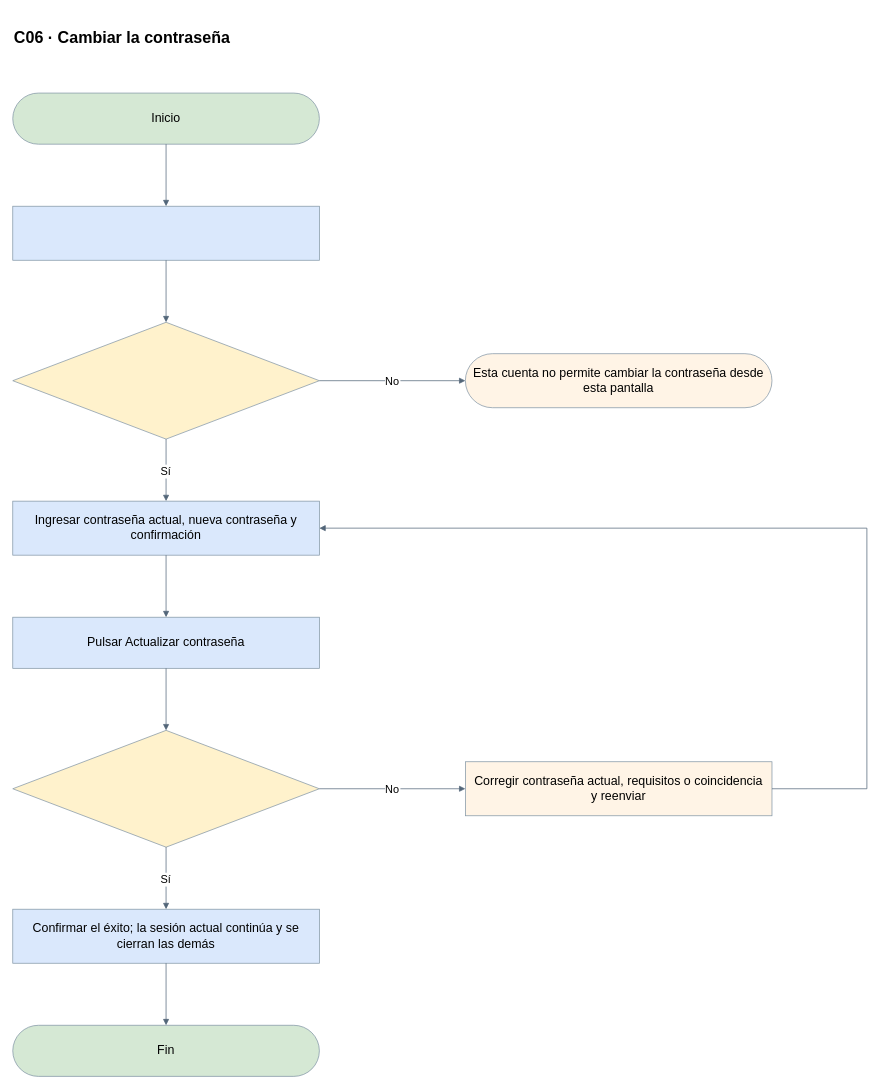
The diagram is 887 pixels wide and 1089 high, and some of its shapes have lost their labels. The shapes that lost their labels are listed below. From the top down, each one's centre as x and y in pixels, then its label:
[165,232]: Abrir Configuración de Cuenta → Seguridad y Acceso
[165,380]: ¿La cuenta tiene contraseña local?
[165,788]: ¿Los datos son válidos?
